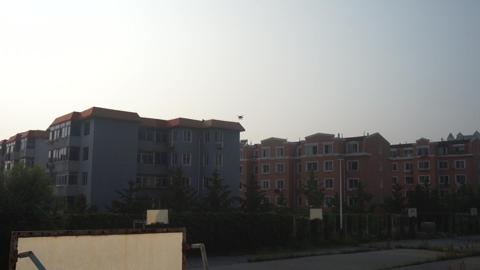UAV: (236, 115, 245, 120)
